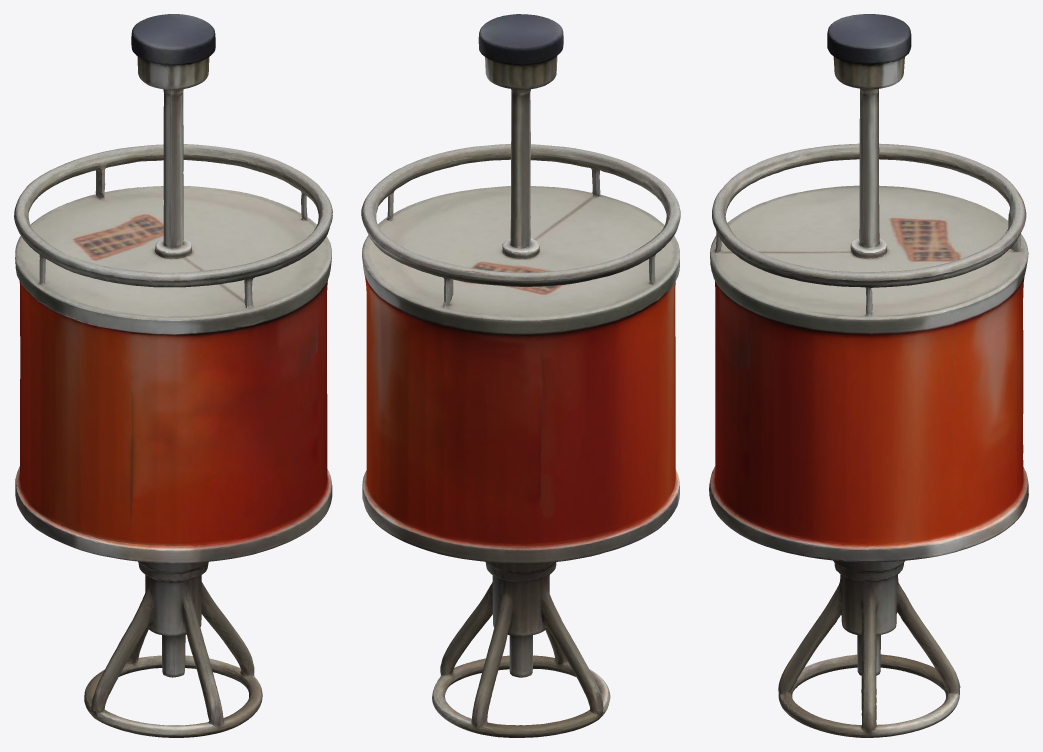
File: soundbuoy.glb
The picture shows the model from 3 angles, left to right: view 1: azimuth 30°, elevation 25°; view 2: azimuth 150°, elevation 25°; view 3: azimuth 270°, elevation 25°; orthographic projection.
Visible parts, largest first — view 1: soundbuoy; view 2: soundbuoy; view 3: soundbuoy.
Boxes of the visible parts, x1,y1,x2,y2 form: soundbuoy: (14,14,332,737); soundbuoy: (361,14,680,737); soundbuoy: (709,14,1028,737).
Bounding box in the file's own units: 0.429 × 1 × 0.4314.
1 material, 1 textured.
